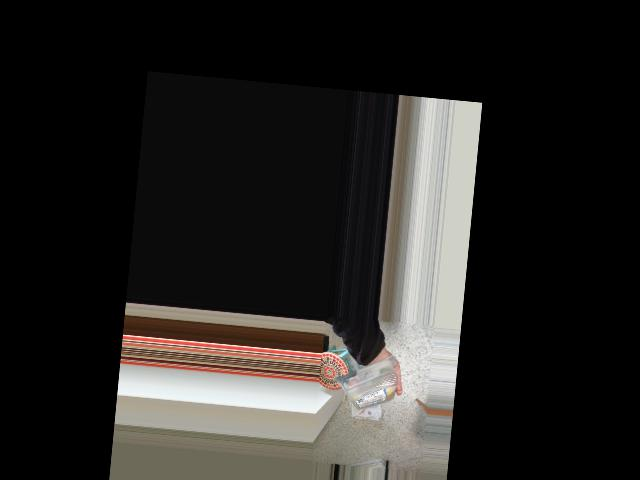cheese: (353, 361, 386, 427)
